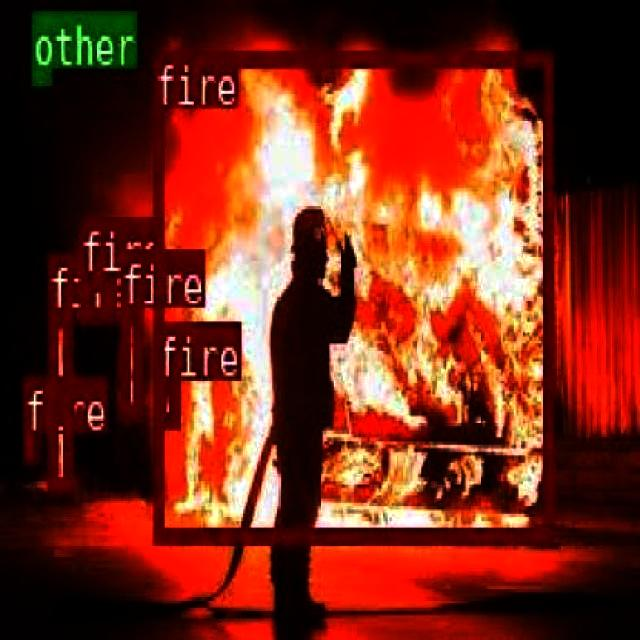fire: (153, 48, 552, 540), (47, 310, 71, 490), (120, 307, 142, 416), (76, 270, 115, 318), (154, 378, 178, 424), (22, 433, 35, 462)
